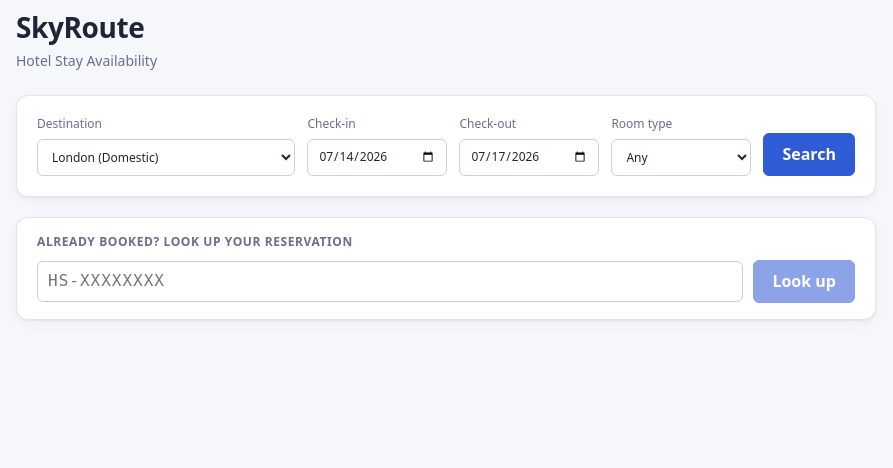
Test case: App › looks up an existing reservation by reference
In the field named "Reservation reference": point(390, 282) [37,261,743,302], type "HS-12345678"
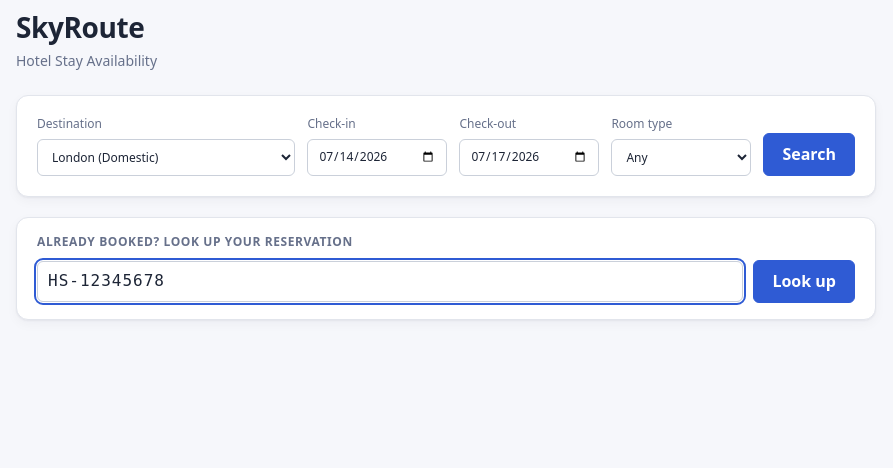
Click the button "Look up": point(804, 282) [753,260,855,303]
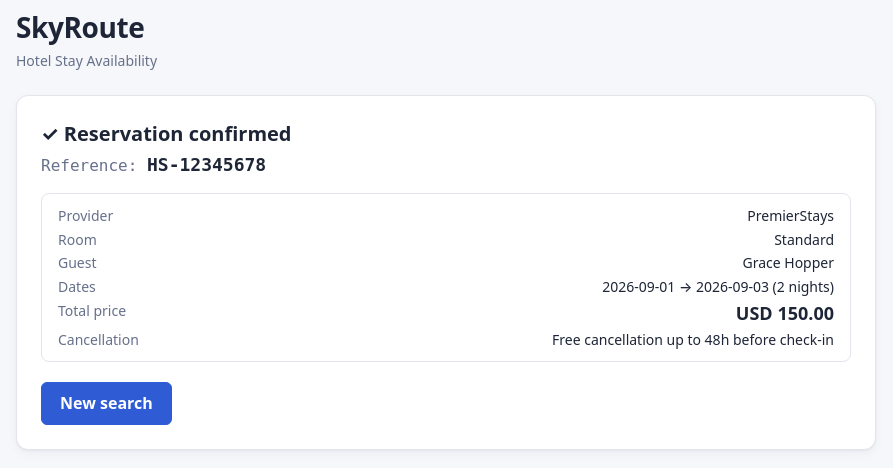
expect the heading "✓ Reservation confirmed" is shown: met, box [41,120,292,147]
expect the text "HS-12345678" is shown: met, box [147,154,266,175]
